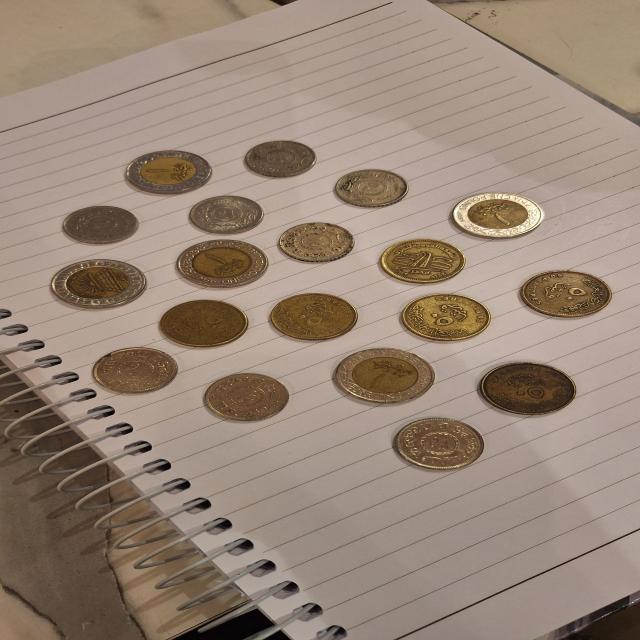Half Pound: (518, 270, 620, 321), (266, 291, 364, 344), (158, 299, 256, 349), (488, 361, 582, 413), (397, 293, 498, 341), (378, 236, 469, 283)
One Pound: (336, 345, 439, 404), (54, 254, 150, 314), (173, 236, 274, 288), (458, 190, 552, 235), (128, 152, 216, 193)
quarter pound: (390, 414, 495, 470), (198, 369, 295, 421), (85, 348, 187, 392), (329, 168, 410, 210), (186, 195, 268, 235), (60, 204, 144, 243), (243, 138, 320, 179), (281, 221, 356, 262)
